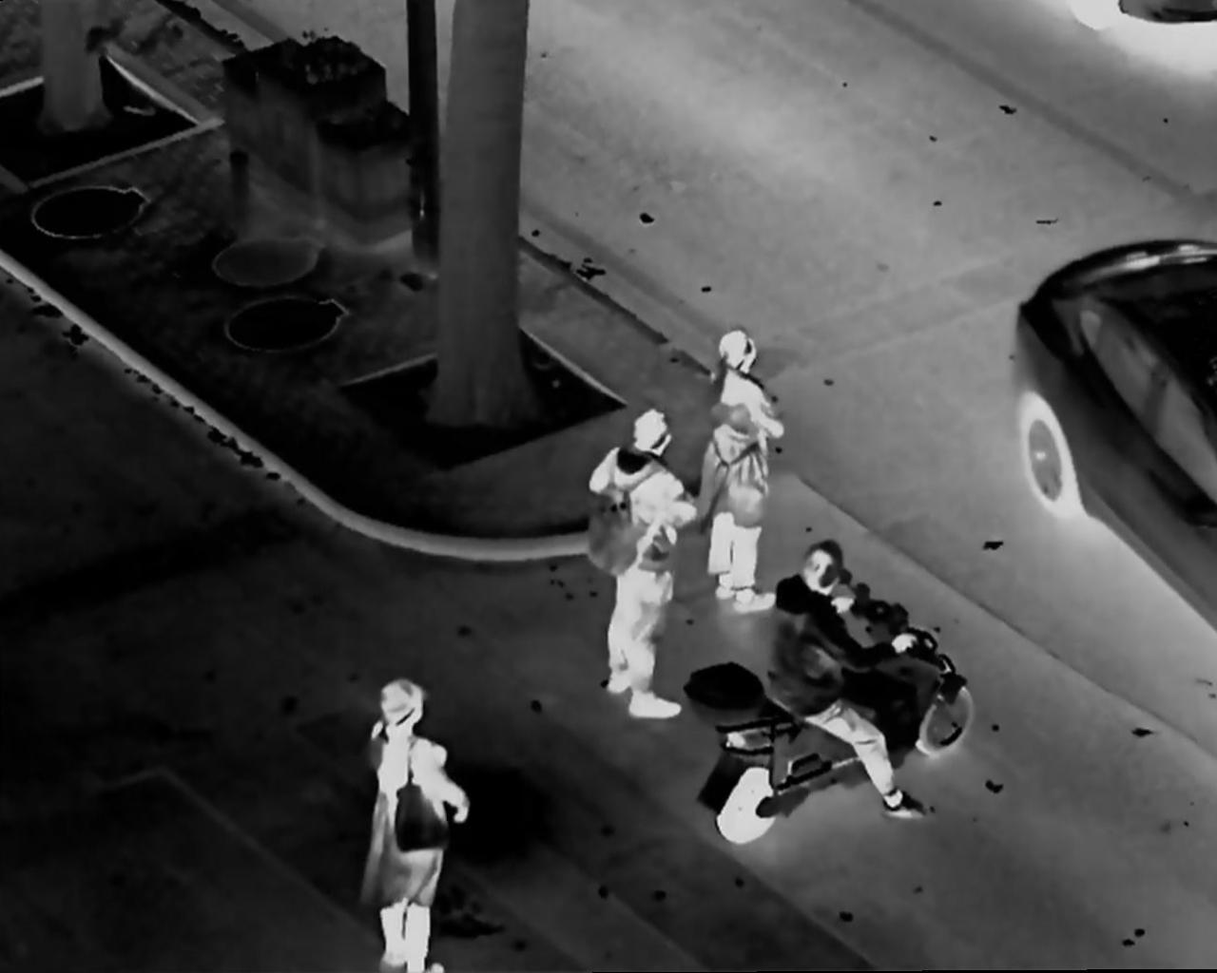person: (764, 542, 937, 825), (581, 407, 693, 721), (367, 674, 476, 973), (690, 321, 786, 615)
